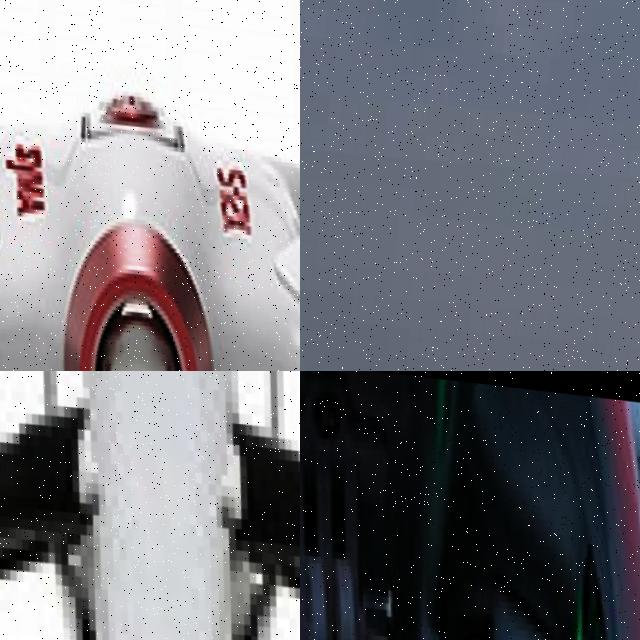drone: (0, 0, 300, 371), (300, 371, 640, 640), (0, 371, 300, 640)
